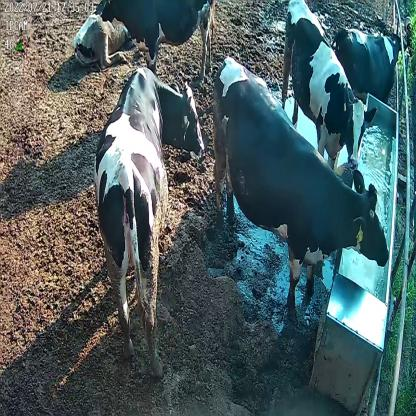cow: (211, 56, 392, 312), (92, 69, 206, 377), (278, 2, 377, 181), (98, 0, 218, 85), (334, 26, 406, 98)
